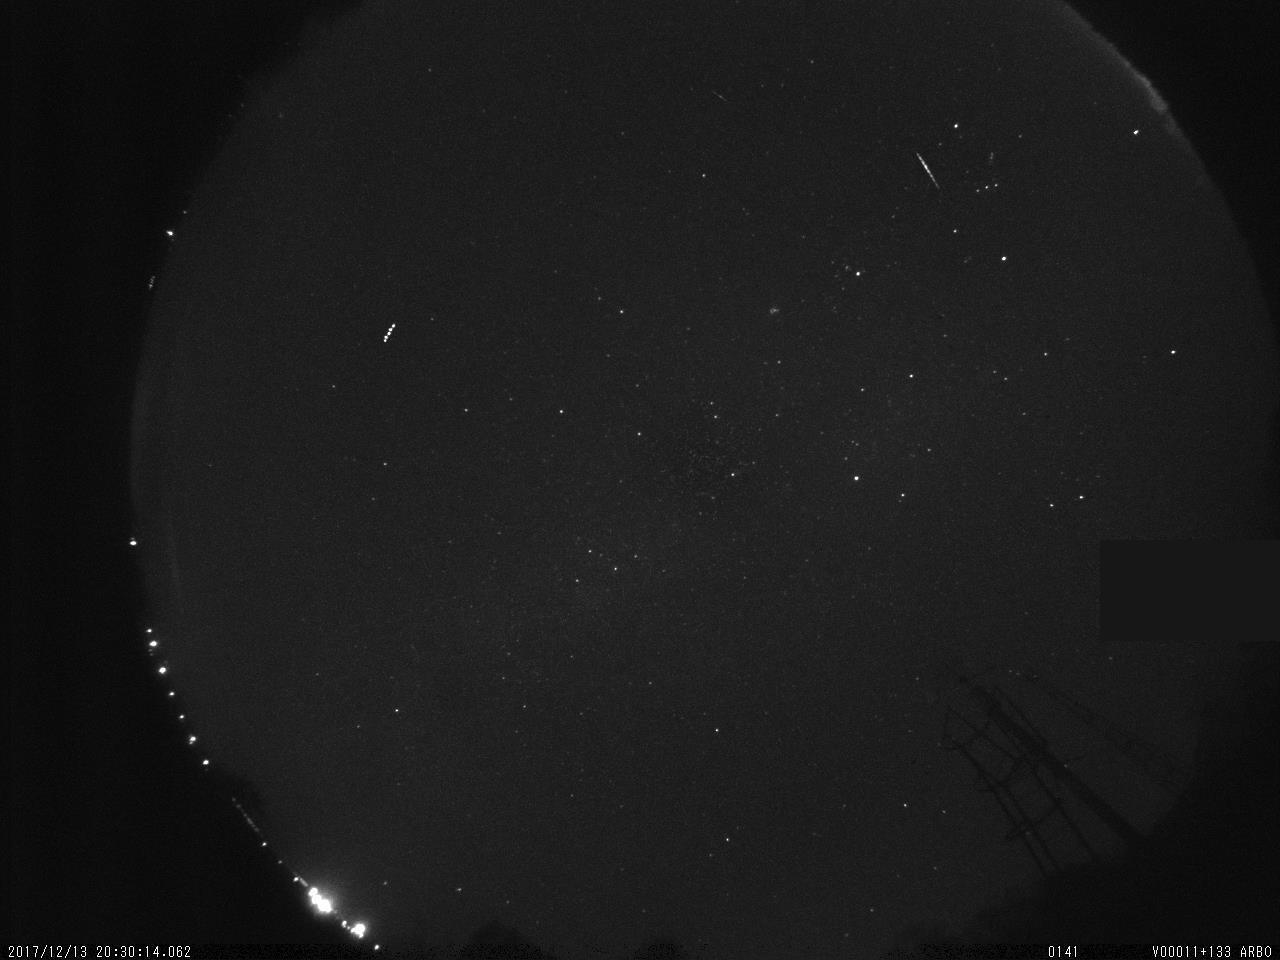meteor: (910, 150, 947, 196)
satelite: (377, 317, 404, 354)
